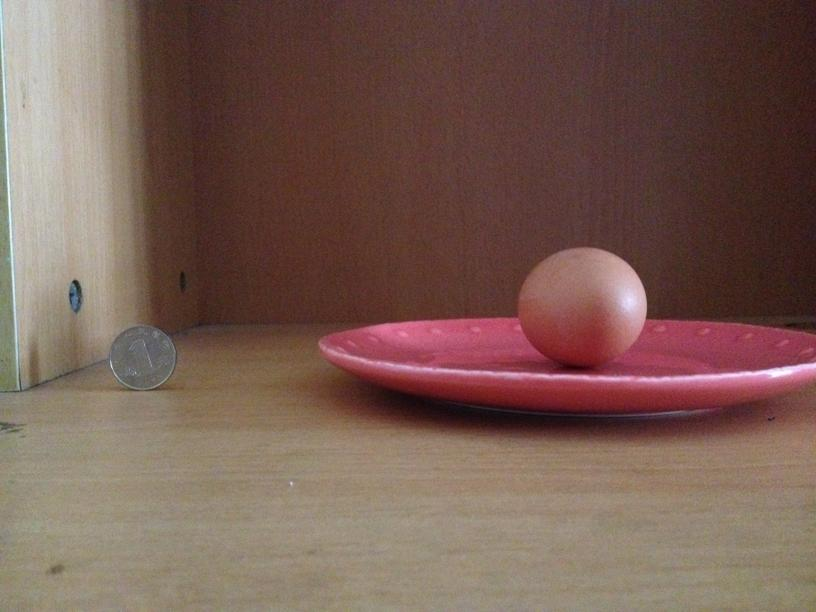coin: (109, 325, 175, 390)
egg: (518, 246, 647, 364)
